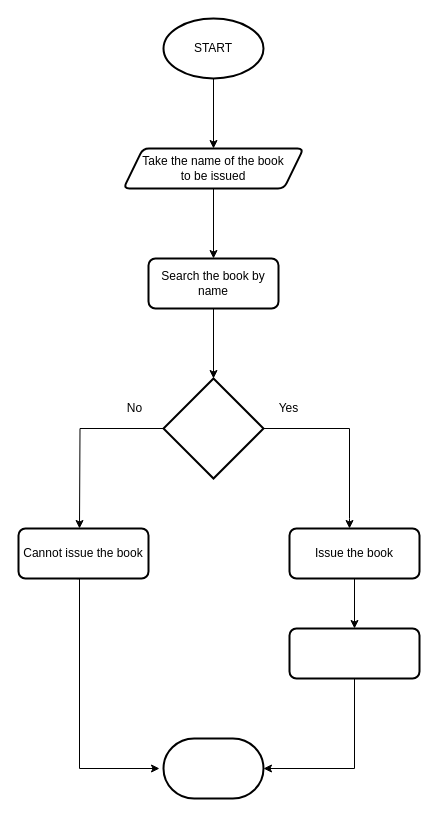
Some shapes in this 437 by 816 pixel diagram are drawn without their labels. The centre of each missing label's shape, as x and y in pixels:
"END" goes at (x=213, y=768).
"Is the book available?" goes at (x=213, y=428).
"Remove the book item and reduce the count of that book by 1" goes at (x=354, y=653).
